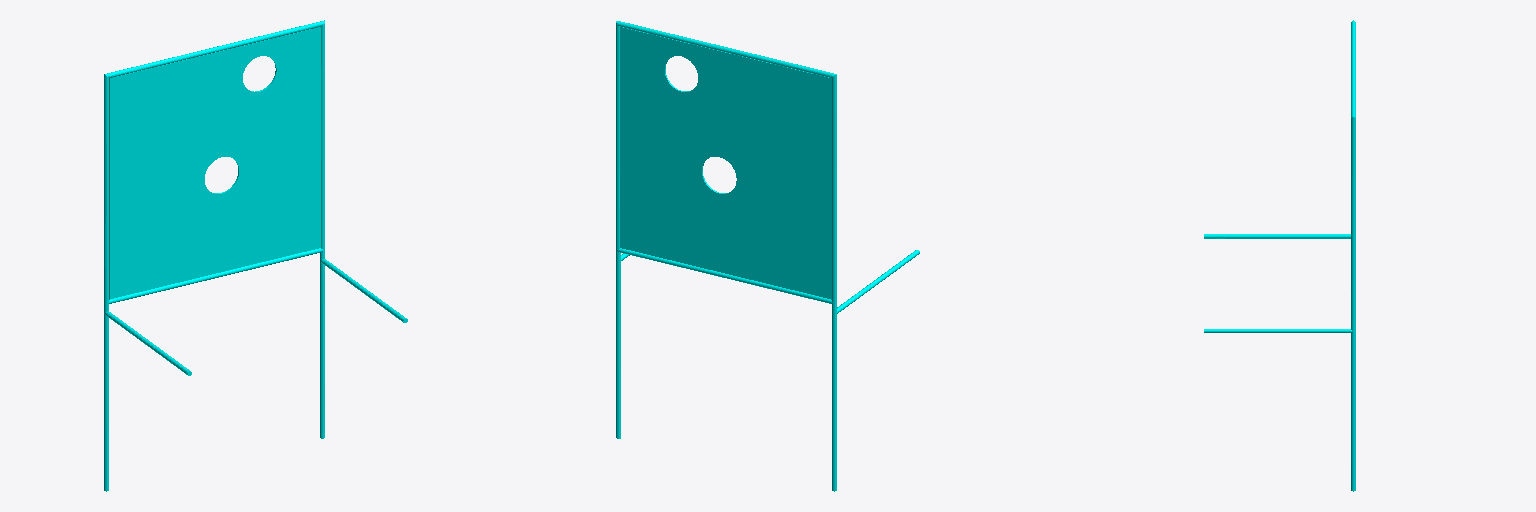
The robot description file, URDF, robot "tagging":
<?xml version="1.0"?>
<robot name="tagging">

  <link name="base_link">
    <inertial>
      <mass value="20.0"/>
      <inertia ixx="1.0" ixy="0.0" ixz="0.0" iyy="1.0" iyz="0.0" izz="1.0"/>
    </inertial>
  </link>

  <link name="tagging_link"> <visual>
      <origin rpy="0.0 0.0 0.0" xyz="0.0 0.0 0.0"/>
      <geometry>
        <mesh filename="package://uuv_visualization/meshes/tagging.stl" scale="1.0 1.0 1.0"/>
      </geometry>
      <material name="Cyan">
        <color rgba="0 1.0 1.0 1.0"/>
      </material>
    </visual>
    <collision>
      <origin rpy="1.57 0.0 0.0" xyz="0 0 0"/> <geometry>
        <box size="1.0 0.5 0.5"/>
      </geometry>
    </collision>
    <inertial>
      <mass value="0.1"/> 
      <inertia ixx="0.001" ixy="0" ixz="0" iyy="0.001" iyz="0" izz="0.001"/>
    </inertial>
  </link>

  <joint name="base_to_tagging" type="fixed">
    <parent link="base_link"/>
    <child link="tagging_link"/> <origin xyz="0 0 0" rpy="0 0 0"/>
  </joint>

  <gazebo reference="base_link">
    <static>true</static> <gravity>0</gravity>
  </gazebo>

  <gazebo>
    <plugin
        filename="ignition-gazebo-pose-publisher-system"
        name="ignition::gazebo::systems::PosePublisher">
        <publish_link_pose>false</publish_link_pose>
        <publish_model_pose>true</publish_model_pose>
        <update_frequency>50</update_frequency> 
    </plugin>
  </gazebo>

</robot>

--- Render facts (derived) ---
The picture shows the robot from 3 angles, left to right: view 1: azimuth 30°, elevation 25°; view 2: azimuth 150°, elevation 25°; view 3: azimuth 270°, elevation 25°; orthographic projection.
Model tagging with 2 links and 1 joints (1 fixed), rooted at base_link, posed every joint at zero.
Visible links, largest first — view 1: tagging_link; view 2: tagging_link; view 3: tagging_link.
Link boxes in pixels (left/top/right/bottom): tagging_link: left=104, top=20, right=407, bottom=491; tagging_link: left=616, top=21, right=919, bottom=491; tagging_link: left=1204, top=20, right=1355, bottom=491.
Bounding box of the posed robot: 0.6127 × 0.4064 × 1.11 m (x, y, z).
1 mesh visuals loaded from 1 distinct referenced files (1 binary STL).
